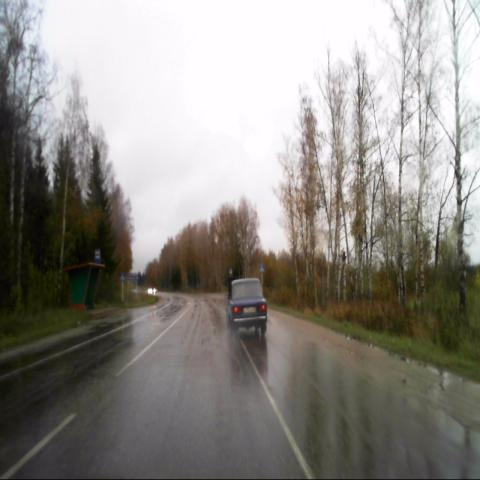5_16: (94, 248, 101, 264)
